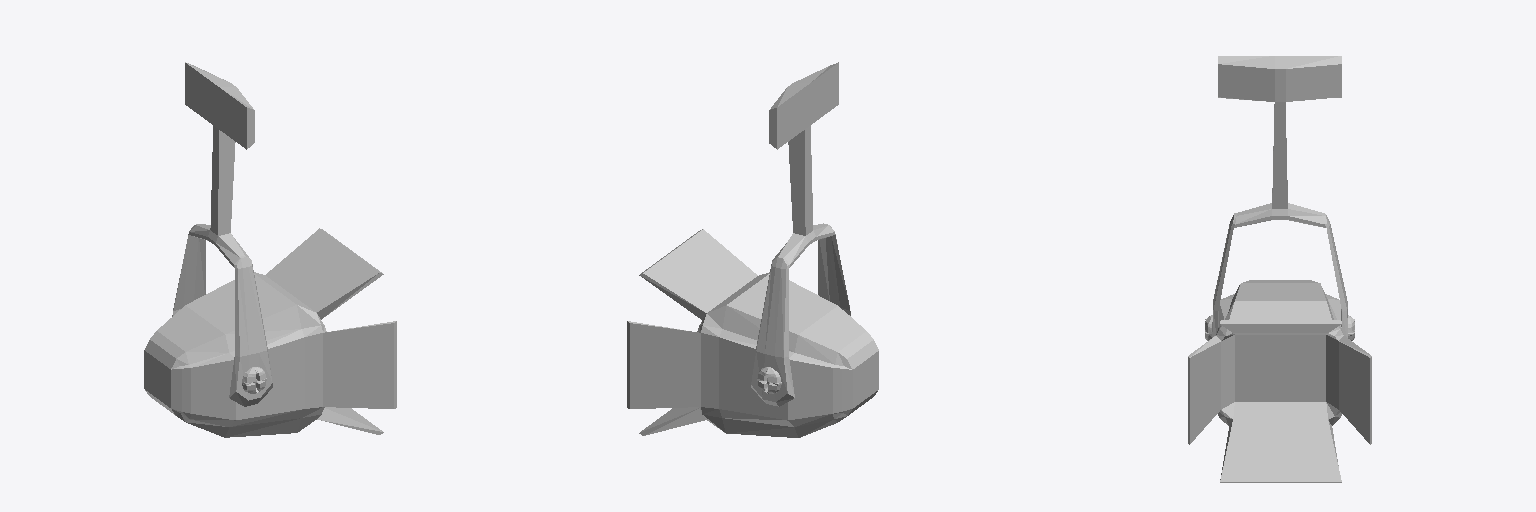
The model's file is foco.obj.
3 views of the same model, side by side, from view 1: azimuth 30°, elevation 25°; view 2: azimuth 150°, elevation 25°; view 3: azimuth 270°, elevation 25° (orthographic).
Parts seen in each view (by area): view 1: g_Scaffolding_Light:pCube5_Scaffolding_Light:polySurface1, g_Scaffolding_Light:pCube5_Scaffolding_Light:pCylinder1_Scaffol; view 2: g_Scaffolding_Light:pCube5_Scaffolding_Light:polySurface1; view 3: g_Scaffolding_Light:pCube5_Scaffolding_Light:polySurface1.
Part boxes in pixels (x1,y1,x2,y2): g_Scaffolding_Light:pCube5_Scaffolding_Light:polySurface1: (144, 62, 396, 437); g_Scaffolding_Light:pCube5_Scaffolding_Light:pCylinder1_Scaffol: (242, 367, 266, 393); g_Scaffolding_Light:pCube5_Scaffolding_Light:polySurface1: (627, 62, 878, 437); g_Scaffolding_Light:pCube5_Scaffolding_Light:polySurface1: (1188, 56, 1371, 482).
Size of the model in its own units: 1.14 by 2 by 0.9262.